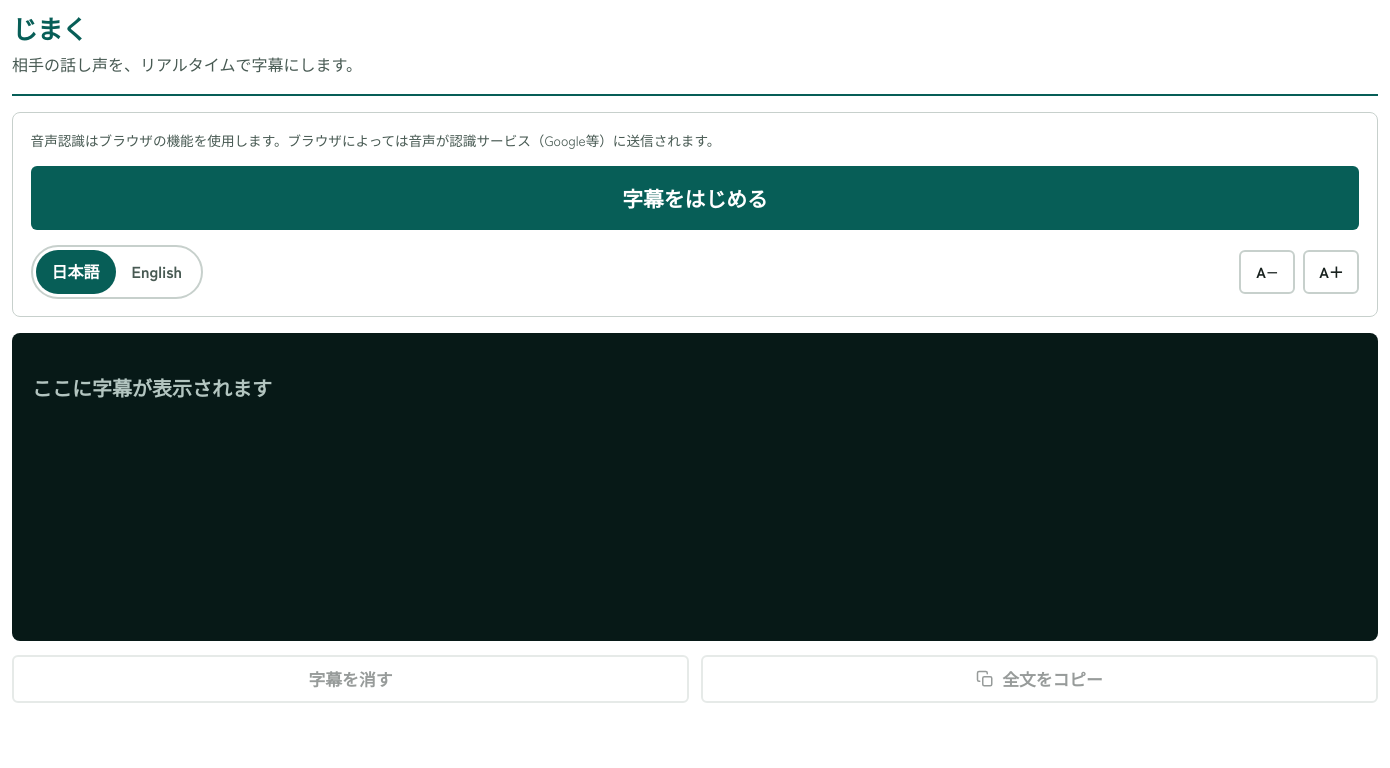
Test case: Captions › clears captions
Click the button "字幕をはじめる" at {"x": 695, "y": 198}, box [31,166,1359,230]
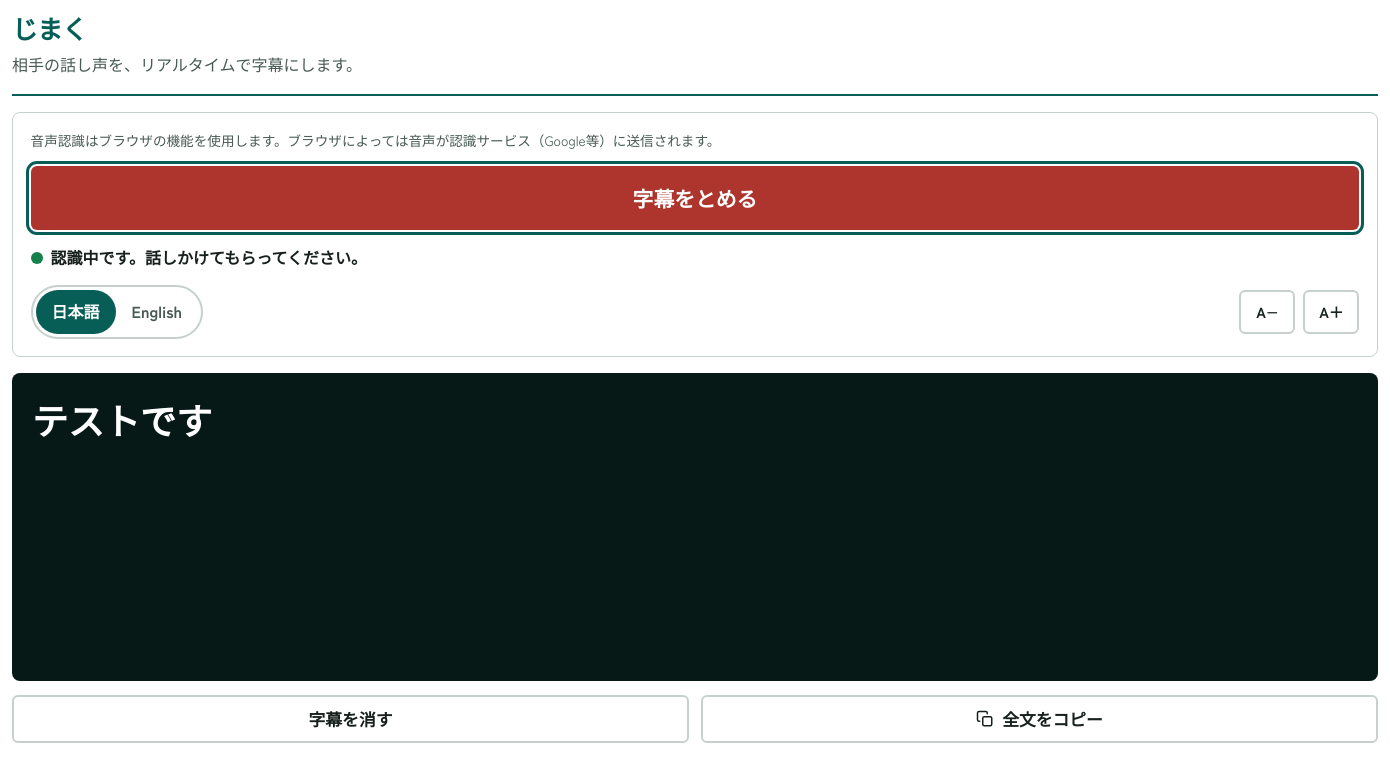
Click the button "字幕を消す" at {"x": 350, "y": 719}, box [12,695,689,743]
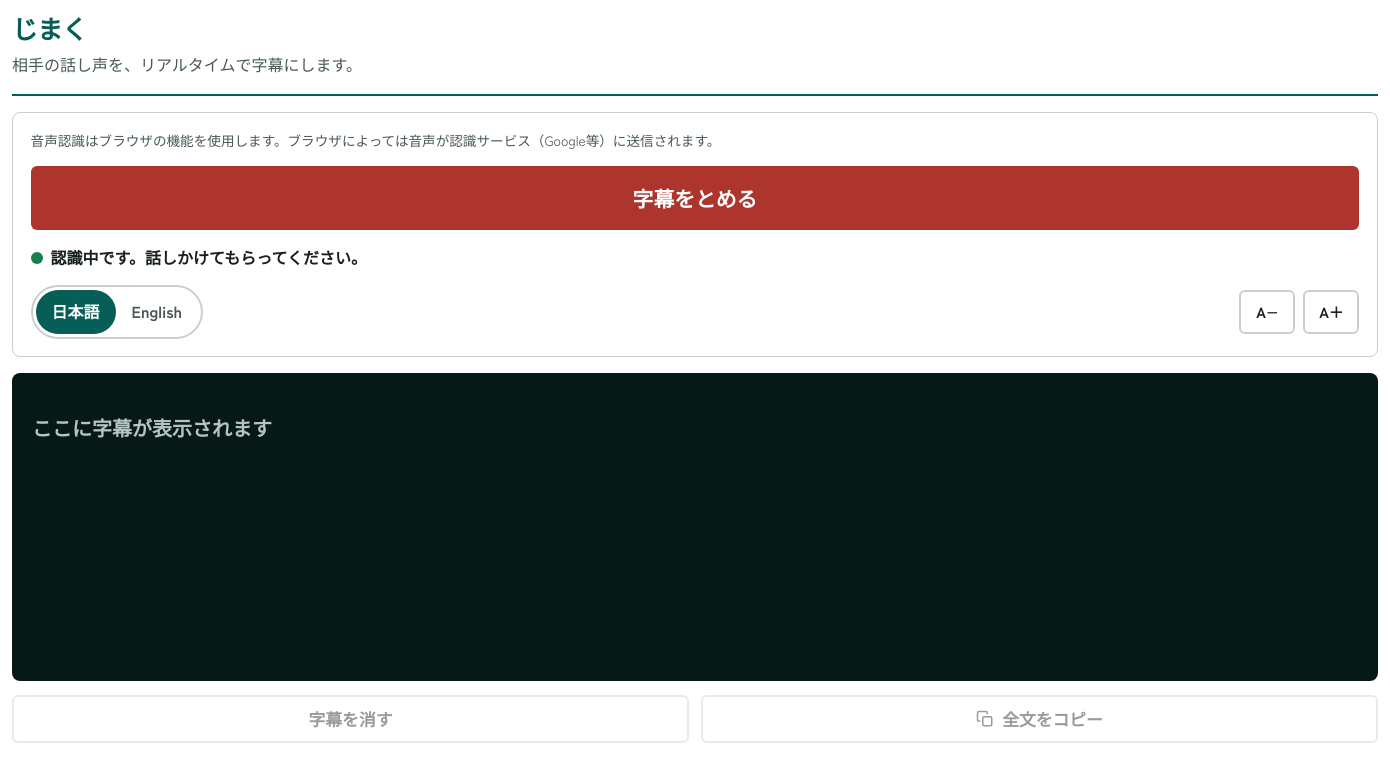
Expected: the text "テストです" is gone
Expected: the text "ここに字幕が表示されます" is shown, [32,413,272,442]
